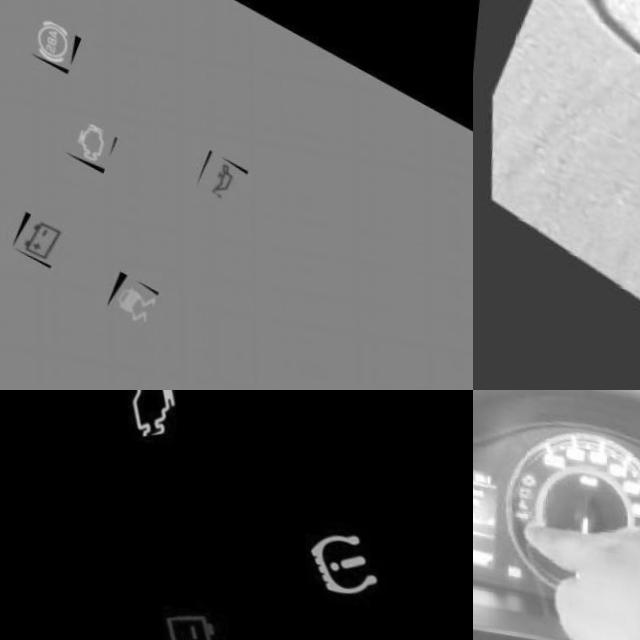Engine cooling system: (515, 478, 526, 493)
